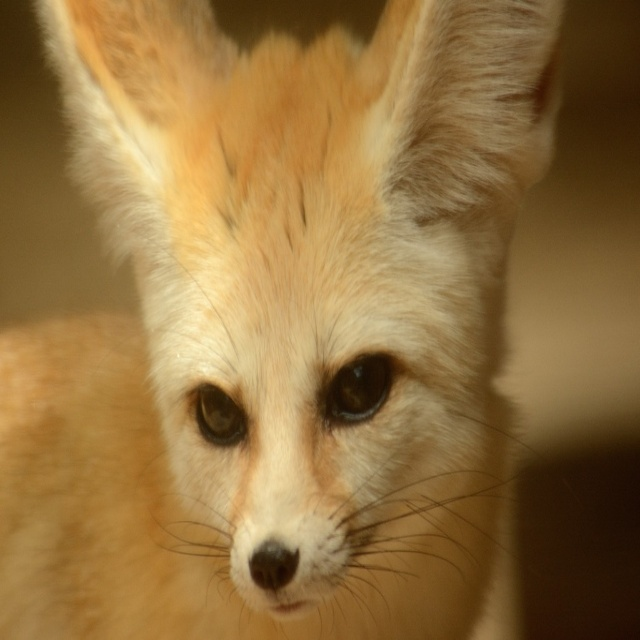Fox: (0, 0, 570, 639)
